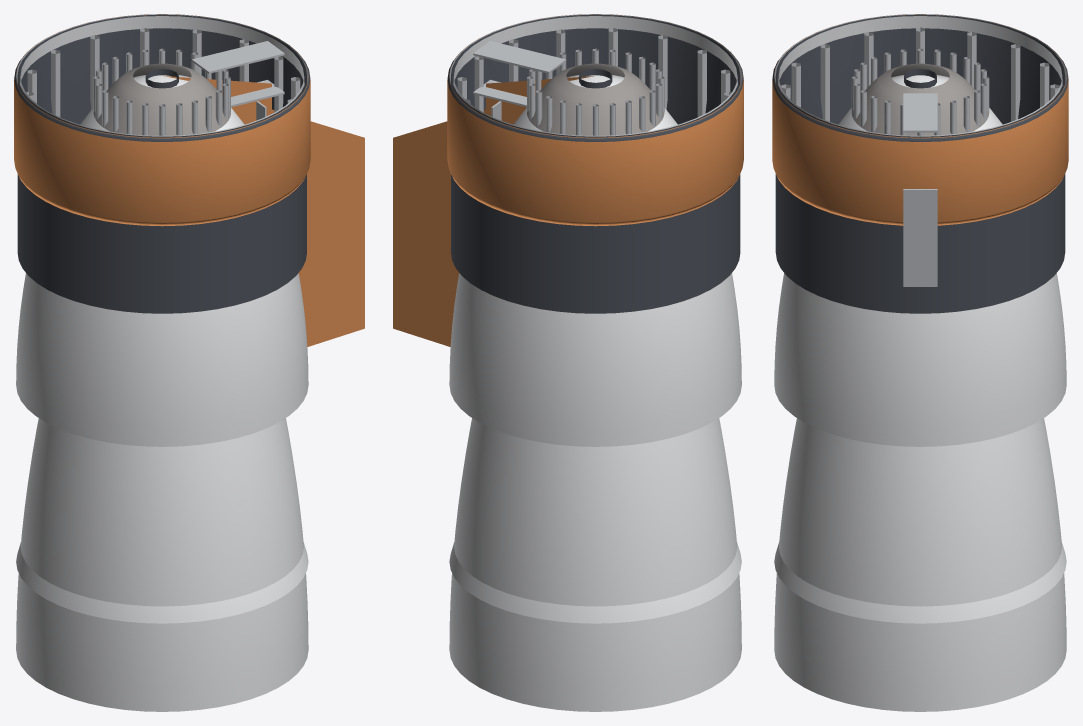
Rendered from rocket-kit.glb.
3 views of the same model, side by side, from view 1: azimuth 30°, elevation 25°; view 2: azimuth 150°, elevation 25°; view 3: azimuth 270°, elevation 25° (orthographic).
Parts seen in each view (by area): view 1: nose_ogive, nose_blunt, interstage, band_ring, fin_large, skirt_s2, nozzle_unit, nose_cone, nose_flat, fin_grid, frame_ring, fin_small; view 2: nose_ogive, nose_blunt, interstage, band_ring, fin_large, skirt_s2, nozzle_unit, nose_cone, nose_flat, fin_grid, frame_ring, fin_small; view 3: nose_ogive, nose_blunt, interstage, band_ring, skirt_s2, nozzle_unit, nose_cone, fin_grid, nose_flat, frame_ring, skirt_s1.
Part boxes in pixels (bbox=[...]): nose_ogive: bbox=[16, 418, 308, 711]; nose_blunt: bbox=[16, 75, 308, 446]; interstage: bbox=[17, 14, 306, 313]; band_ring: bbox=[14, 14, 310, 226]; fin_large: bbox=[232, 103, 364, 346]; skirt_s2: bbox=[18, 15, 306, 136]; nozzle_unit: bbox=[93, 48, 230, 135]; nose_cone: bbox=[16, 542, 308, 623]; nose_flat: bbox=[20, 16, 304, 136]; fin_grid: bbox=[191, 41, 284, 120]; frame_ring: bbox=[14, 54, 310, 141]; fin_small: bbox=[164, 76, 271, 124]; nose_ogive: bbox=[449, 418, 741, 711]; nose_blunt: bbox=[449, 75, 741, 446]; interstage: bbox=[451, 14, 740, 313]; band_ring: bbox=[447, 14, 743, 226]; fin_large: bbox=[393, 103, 526, 346]; skirt_s2: bbox=[451, 15, 739, 136]; nozzle_unit: bbox=[527, 48, 664, 135]; nose_cone: bbox=[449, 542, 741, 623]; nose_flat: bbox=[453, 16, 737, 136]; fin_grid: bbox=[473, 41, 566, 120]; frame_ring: bbox=[447, 54, 743, 141]; fin_small: bbox=[486, 76, 593, 124]; nose_ogive: bbox=[774, 418, 1066, 711]; nose_blunt: bbox=[774, 75, 1066, 446]; interstage: bbox=[775, 14, 1065, 313]; band_ring: bbox=[772, 14, 1068, 225]; skirt_s2: bbox=[776, 15, 1064, 136]; nozzle_unit: bbox=[851, 48, 989, 135]; nose_cone: bbox=[774, 542, 1066, 623]; fin_grid: bbox=[903, 93, 937, 286]; nose_flat: bbox=[778, 16, 1062, 136]; frame_ring: bbox=[772, 54, 1068, 141]; skirt_s1: bbox=[774, 14, 1066, 83].
Bounding box in the file's own units: 3.92 × 6.51 × 3.04.
